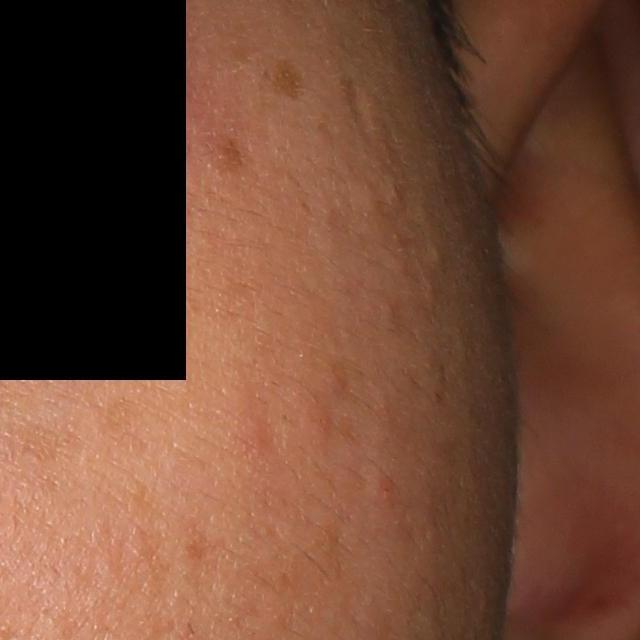comedo: (430, 245, 442, 264)
melasma: (11, 417, 73, 466), (269, 50, 312, 102)
